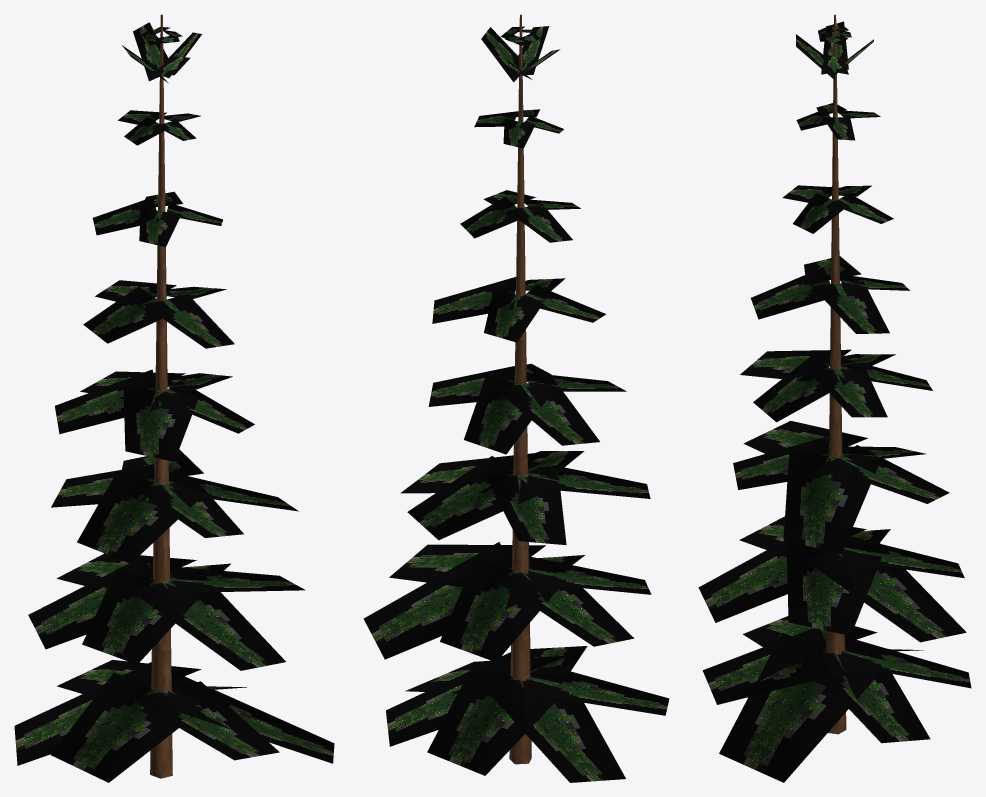
File: arbre_epicea_lod2.glb
The picture shows the model from 3 angles, left to right: view 1: azimuth 30°, elevation 25°; view 2: azimuth 150°, elevation 25°; view 3: azimuth 270°, elevation 25°; orthographic projection. The views are drawn at different scales.
Visible parts, largest first — view 1: arbre; view 2: arbre; view 3: arbre.
Part boxes in pixels (x1,y1,x2,y2): arbre: [14, 14, 334, 782]; arbre: [363, 14, 669, 782]; arbre: [698, 14, 971, 782].
Bounding box in the file's own units: 8.45 × 22.3 × 7.72.
2 materials, 2 textured.
